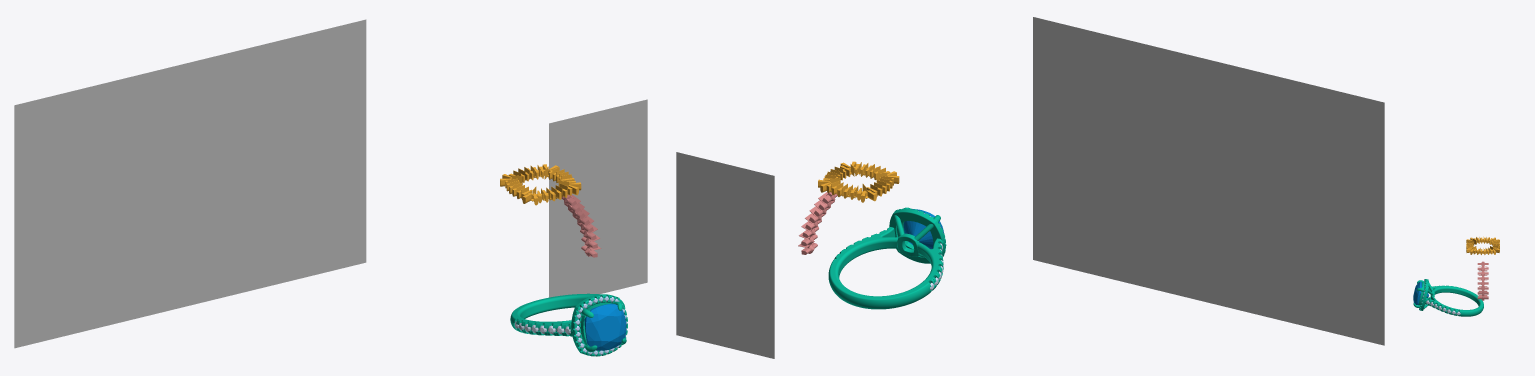
The picture shows the model from 3 angles, left to right: view 1: azimuth 30°, elevation 25°; view 2: azimuth 150°, elevation 25°; view 3: azimuth 270°, elevation 25°; orthographic projection. The views are drawn at different scales.
Visible parts, largest first — view 1: VR459 21.8.25 COUSION(base).3dm, Diamond_Cushion Square; view 2: VR459 21.8.25 COUSION(base).3dm; view 3: VR459 21.8.25 COUSION(base).3dm, Diamond_Cushion Square.
Part boxes in pixels (<box>): VR459 21.8.25 COUSION(base).3dm: <box>14,19,647,356</box>; Diamond_Cushion Square: <box>584,303,626,350</box>; VR459 21.8.25 COUSION(base).3dm: <box>676,17,1384,358</box>; VR459 21.8.25 COUSION(base).3dm: <box>1419,279,1483,316</box>; Diamond_Cushion Square: <box>1413,281,1428,304</box>.
Size of the model in its own units: 16.05 by 8.43 by 4.46.
